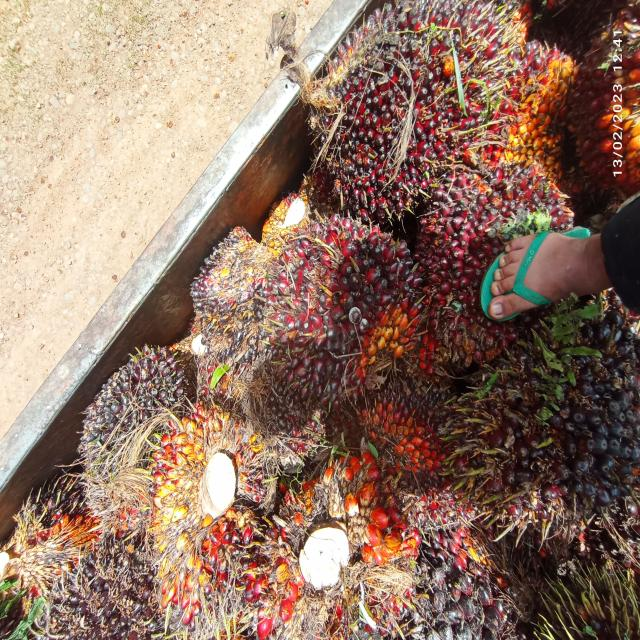fraksi 00: (472, 298, 640, 547), (67, 341, 192, 497), (184, 210, 274, 364), (39, 558, 156, 640)
fraksi 1: (314, 0, 530, 243), (390, 138, 578, 368), (258, 216, 427, 409)
